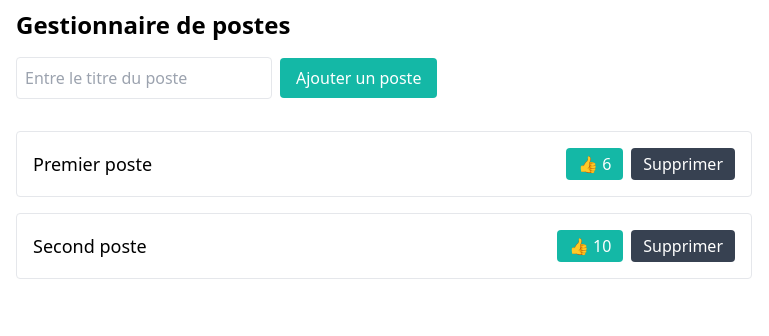
Scenario: App component › should show error mesage when deleting a post fails
The width and height of the screenshot is (769, 336).
Step 1. Click the button "Supprimer" in the row of "Premier poste" → x=683, y=164, box [631,148,735,180]
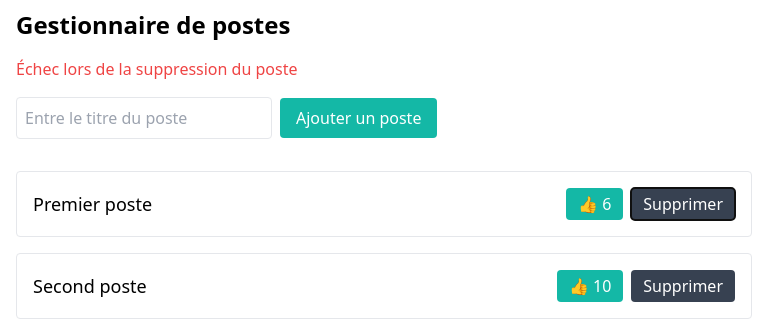
Expected: the text "Échec lors de la suppression du poste" is shown, [16,58,298,80]
